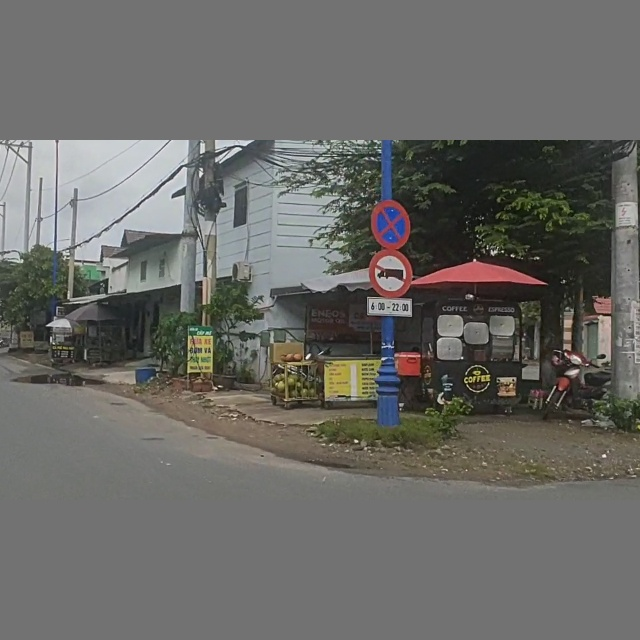B.8a: (369, 250, 413, 297)
P.130: (371, 201, 411, 249)
